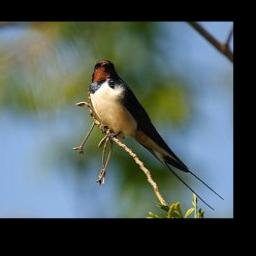Swallow: (91, 58, 225, 211)
